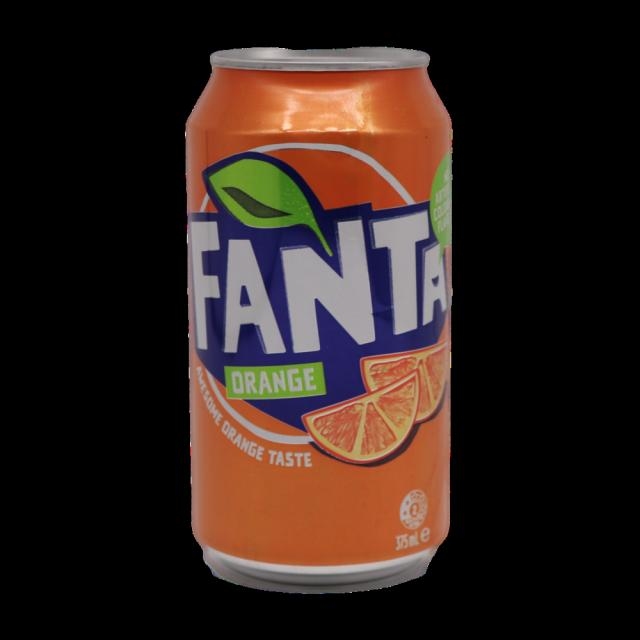fanta: (175, 41, 458, 594)
